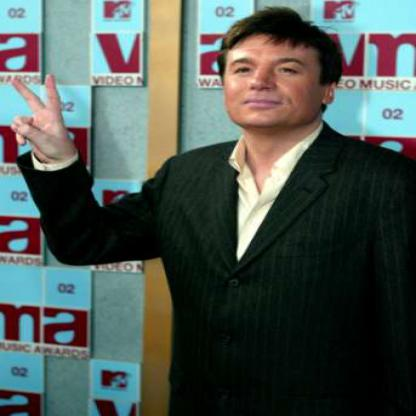face: (213, 16, 332, 132)
